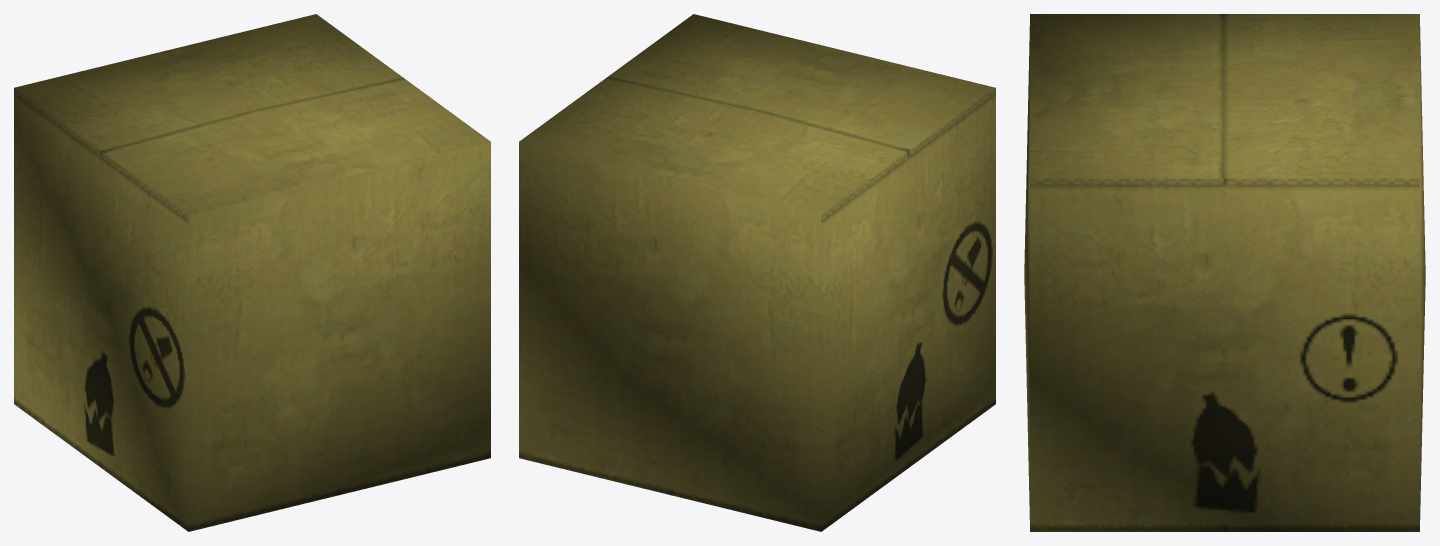
Rendered from Crate_Card02.glb.
The picture shows the model from 3 angles, left to right: view 1: azimuth 30°, elevation 25°; view 2: azimuth 150°, elevation 25°; view 3: azimuth 270°, elevation 25°; orthographic projection. The views are drawn at different scales.
Parts seen in each view (by area): view 1: CRATE_CARD02; view 2: CRATE_CARD02; view 3: CRATE_CARD02.
Part boxes in pixels (x1,y1,x2,y2): CRATE_CARD02: [14, 14, 490, 531]; CRATE_CARD02: [519, 14, 995, 531]; CRATE_CARD02: [1024, 14, 1425, 531].
Bounding box in the file's own units: 1.03 × 1.01 × 1.03.
2 materials, 2 textured.
